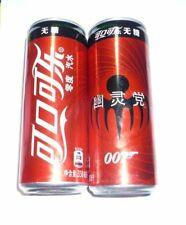metal: (20, 20, 156, 197)
